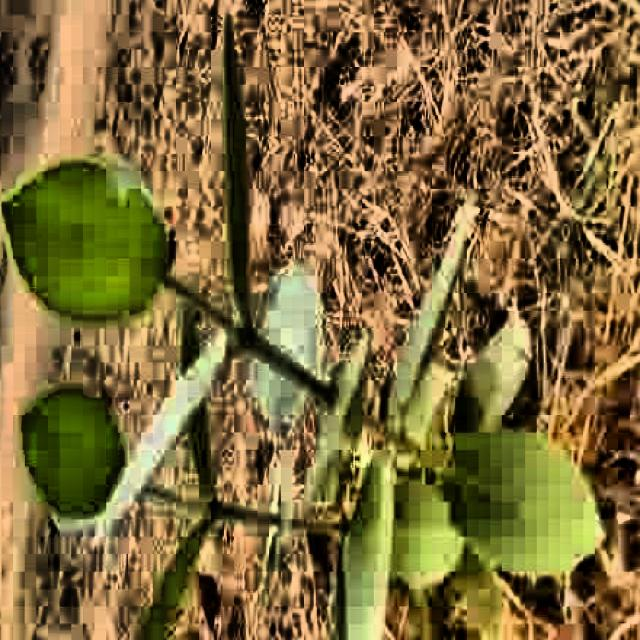Calotropis: (1, 1, 640, 640)
